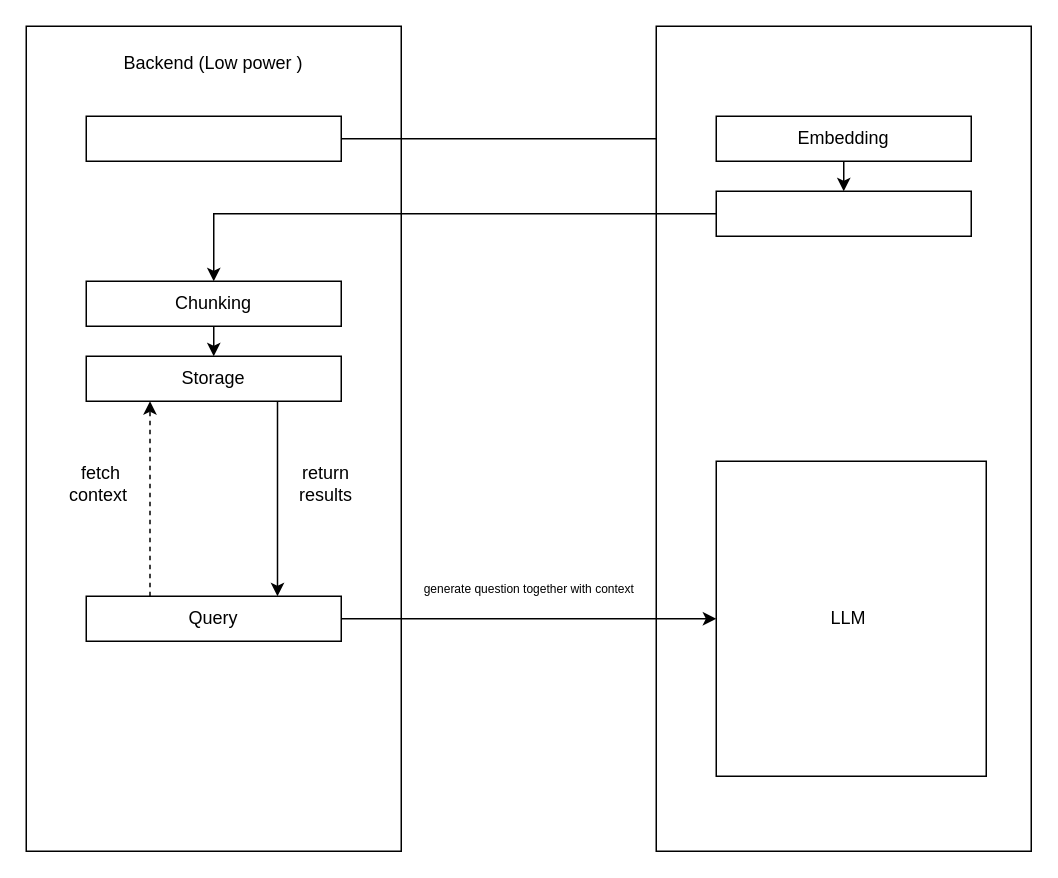
Some shapes in this 1058 by 878 pixel diagram are drawn without their labels. Each missing label, with the box of its shape:
Backend (High power ): (655, 25, 1031, 851)
Indexing: (715, 190, 971, 236)
Parsing and cleaning: (85, 115, 341, 161)
